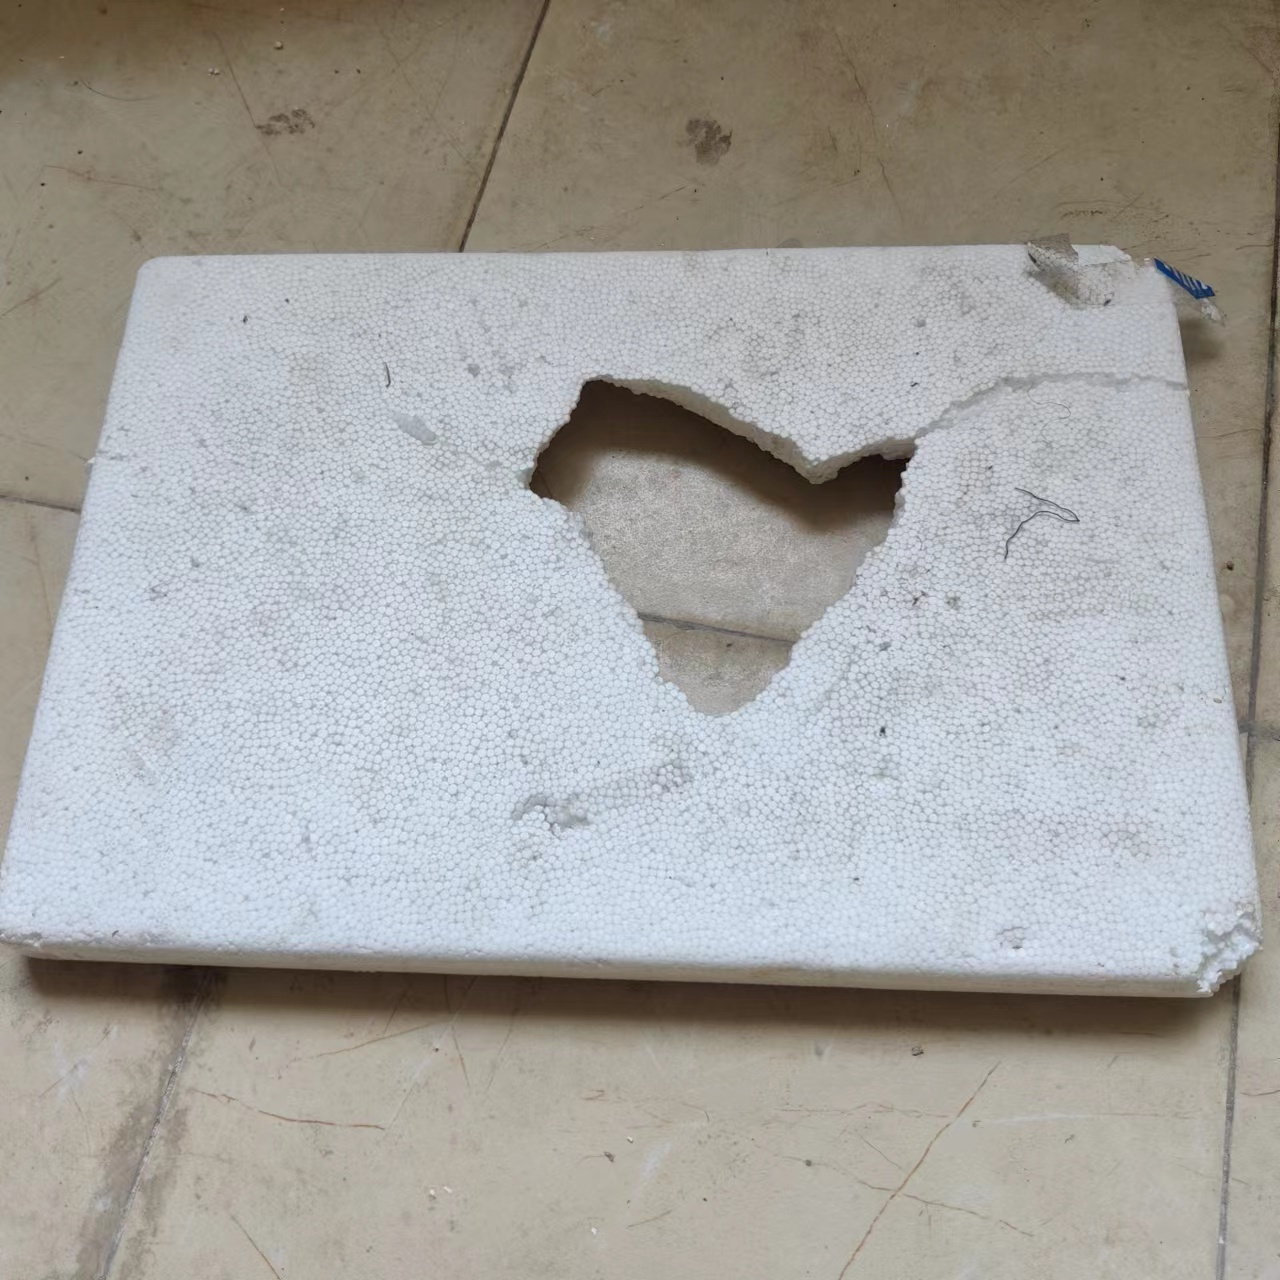5/可回收垃圾/泡沫: (1, 241, 1262, 999)
